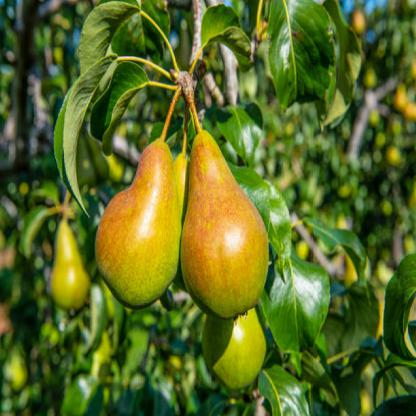Paer: (66, 103, 182, 329), (180, 123, 277, 320)
